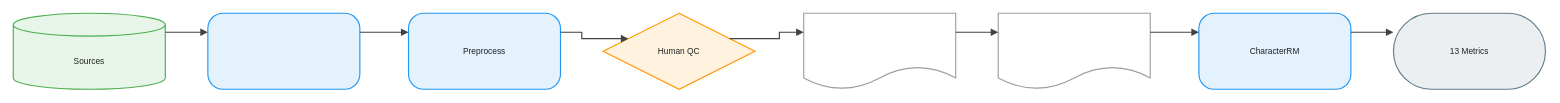
Some shapes in this 1560 by 103 pixel diagram are drawn without their labels. The shapes that lost their labels are listed below. From the top down, each one's box as (x1, y1, x2, y2) in pixels, then its label:
(207, 12, 360, 90): GPT-4
(803, 12, 956, 90): Profiles
(997, 12, 1150, 90): 11,376 Ex.
